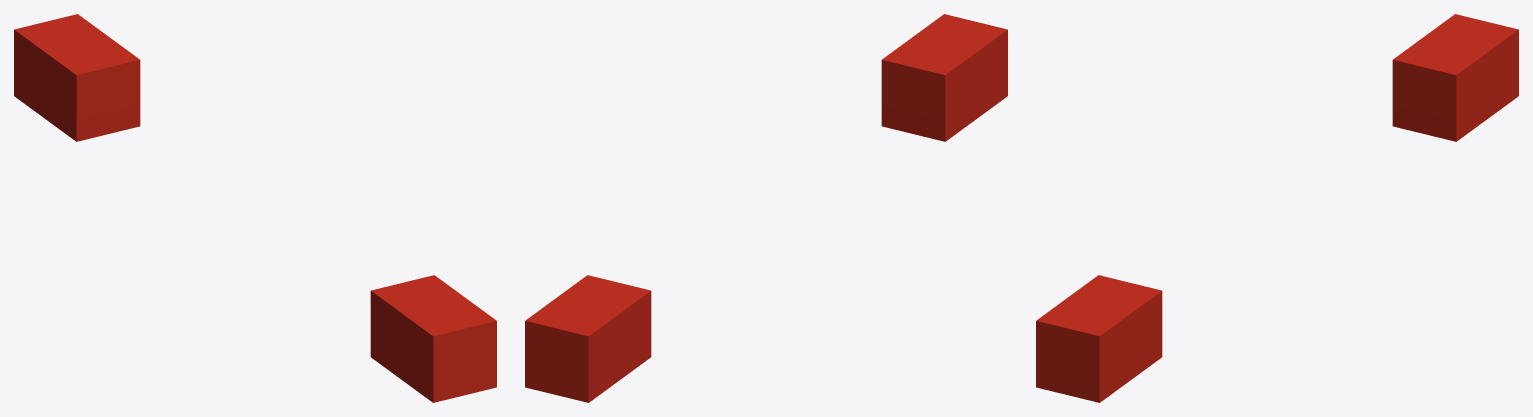
Rendered from RearLights.glb.
3 views of the same model, side by side, from view 1: azimuth 30°, elevation 25°; view 2: azimuth 150°, elevation 25°; view 3: azimuth 330°, elevation 25° (orthographic).
Parts seen in each view (by area): view 1: Cube.115; view 2: Cube.115; view 3: Cube.115.
Part boxes in pixels (left/top/right/bottom): Cube.115: left=14, top=14, right=496, bottom=402; Cube.115: left=525, top=14, right=1007, bottom=402; Cube.115: left=1036, top=14, right=1518, bottom=402.
Size of the model in its own units: 0.00645 by 0.00645 by 0.0735.
Materials: 1 (1 with a texture image).
